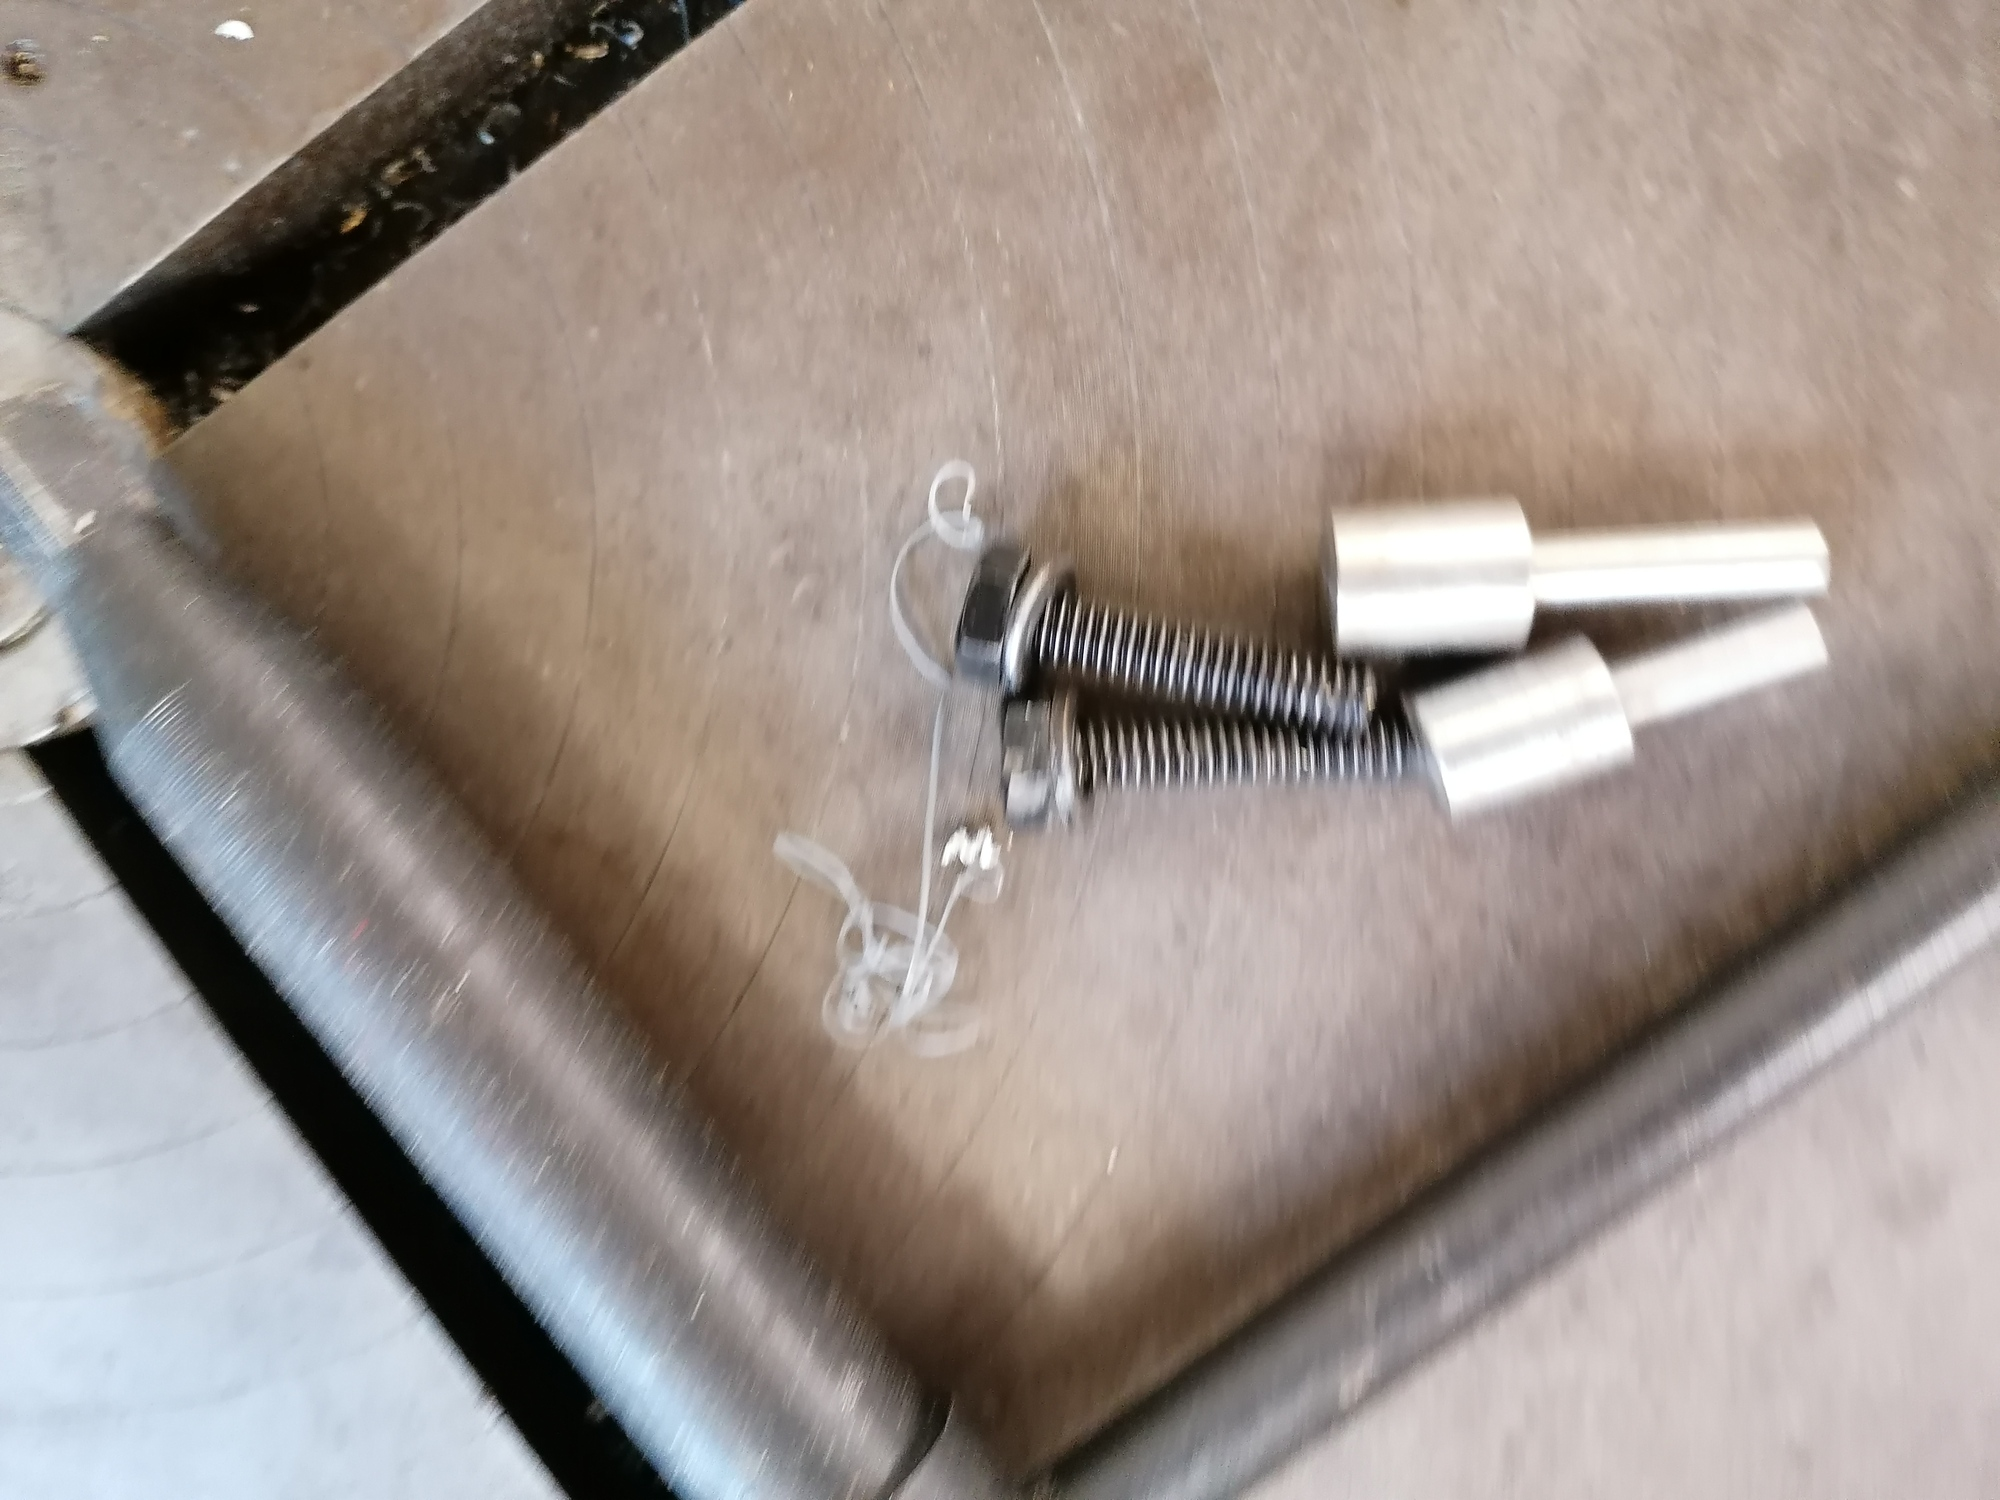bolt: (954, 540, 1380, 736), (994, 685, 1422, 835)
